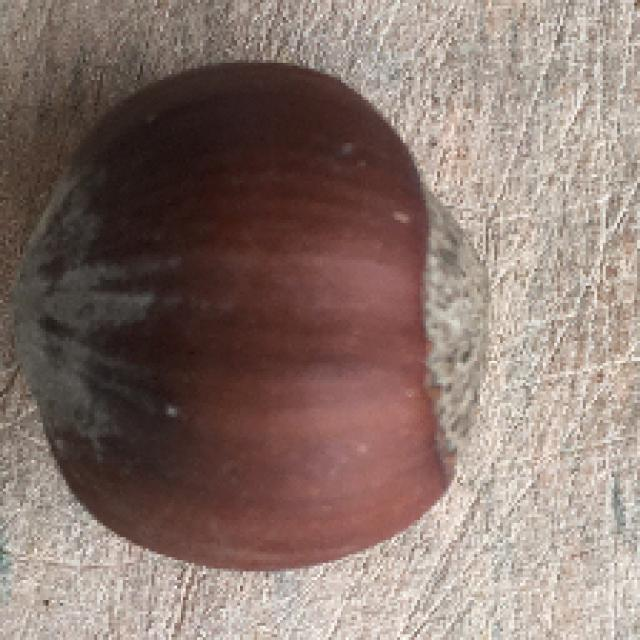damagedHazelnut: (18, 62, 490, 566)
